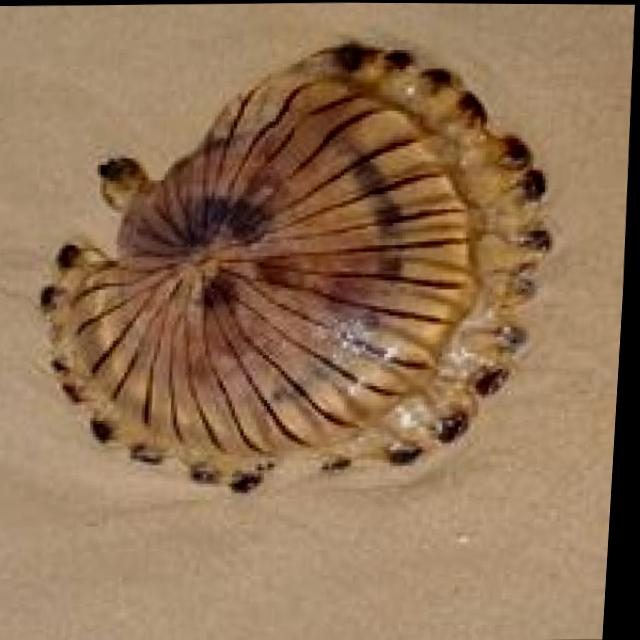Box-jellyfish: (23, 34, 568, 504)
